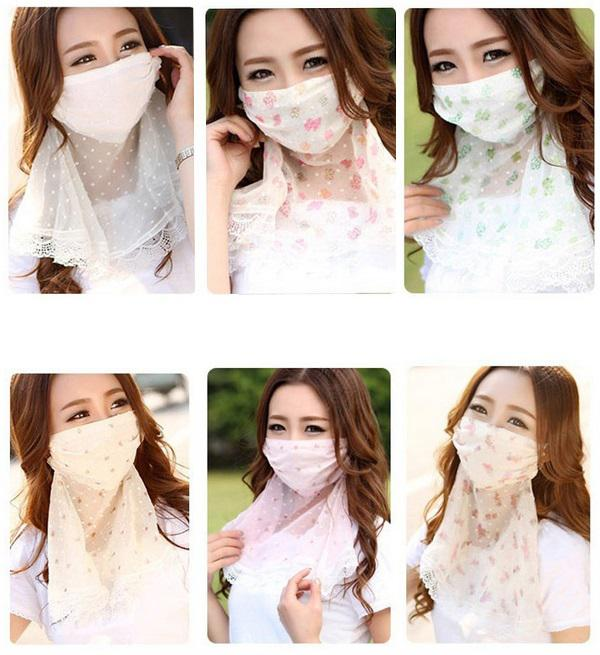OK: (49, 22, 165, 138), (233, 35, 349, 151), (422, 26, 538, 142), (51, 381, 150, 480), (454, 388, 552, 486), (257, 406, 343, 492)
